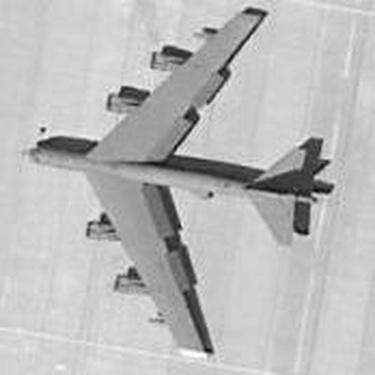airplane: (7, 5, 342, 366)
